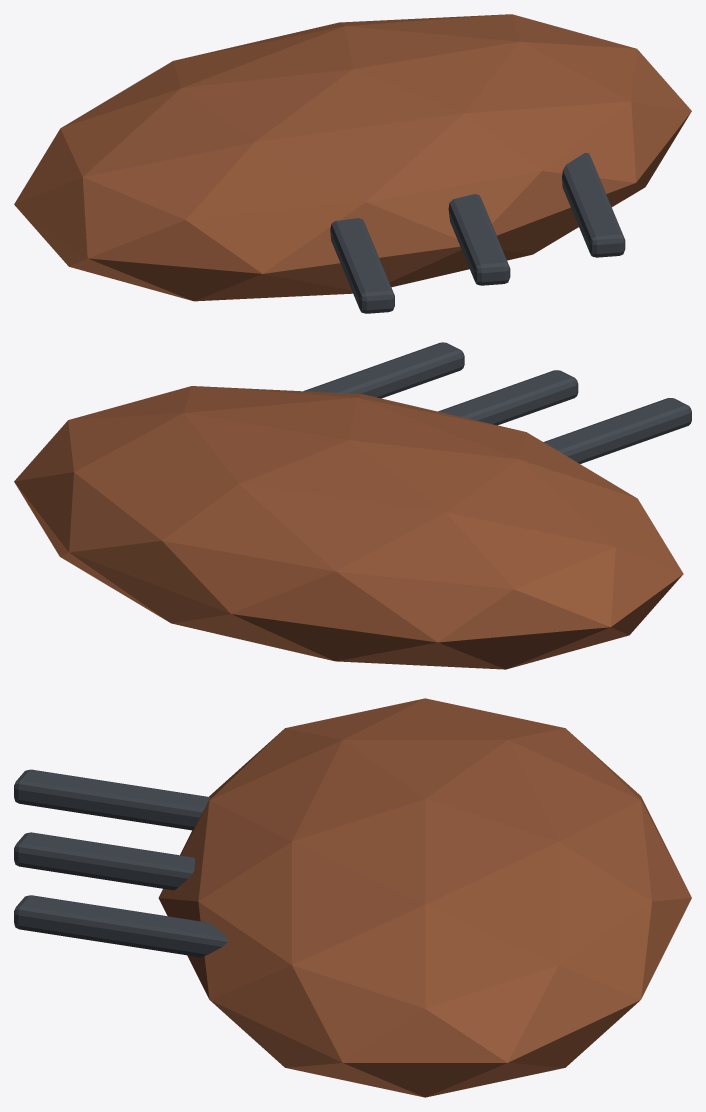
The model's file is MeatCooked.fbx.
3 renders of one model, top to bottom at view 1: azimuth 30°, elevation 25°; view 2: azimuth 150°, elevation 25°; view 3: azimuth 270°, elevation 25°, orthographic. The views are drawn at different scales.
Visible parts, largest first — view 1: CookedSteak, GrillMark_2, GrillMark_0, GrillMark_1; view 2: CookedSteak, GrillMark_0, GrillMark_2, GrillMark_1; view 3: CookedSteak, GrillMark_2, GrillMark_0, GrillMark_1.
Part boxes in pixels (x1,y1,x2,y2): CookedSteak: (14,14,691,301); GrillMark_2: (562,153,625,257); GrillMark_0: (330,218,394,313); GrillMark_1: (448,194,510,285); CookedSteak: (14,386,683,669); GrillMark_0: (543,398,691,463); GrillMark_2: (303,342,464,398); GrillMark_1: (438,370,578,425); CookedSteak: (158,698,691,1097); GrillMark_2: (14,895,227,957); GrillMark_0: (14,769,210,830); GrillMark_1: (14,832,194,890).
Bounding box in the file's own units: 1.05 × 0.2944 × 0.9121.
